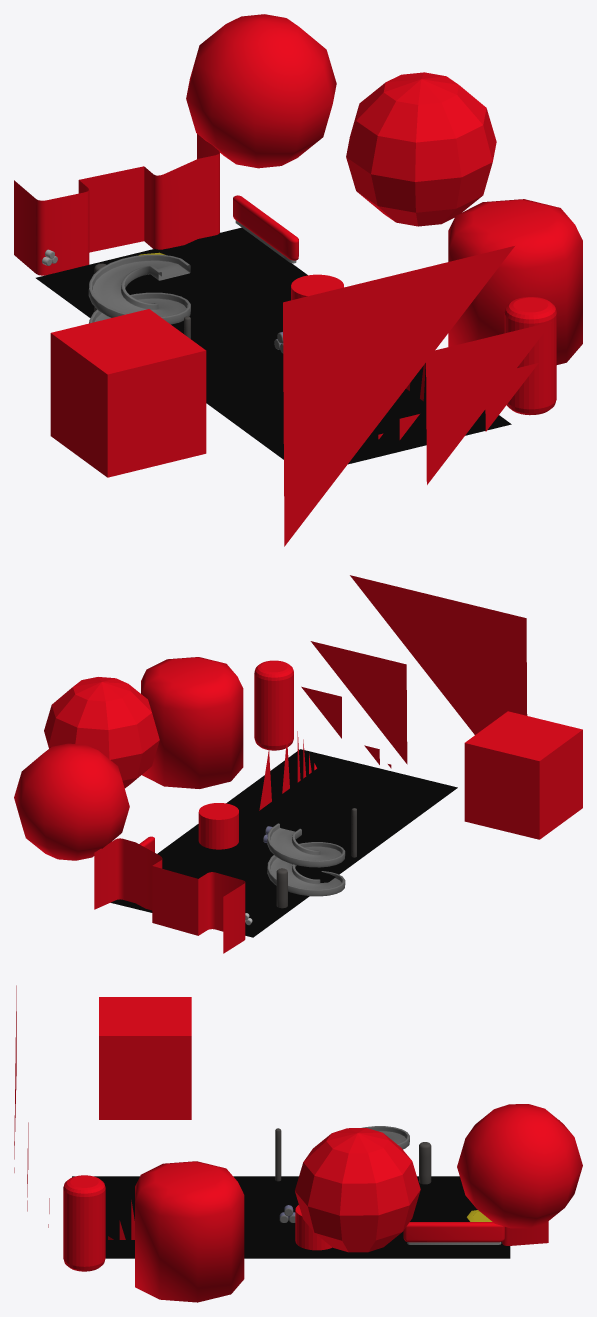
File: SimpleGeometry.glb
The picture shows the model from 3 angles, top to bottom: view 1: azimuth 30°, elevation 25°; view 2: azimuth 150°, elevation 25°; view 3: azimuth 270°, elevation 25°; orthographic projection. The views are drawn at different scales.
Parts seen in each view (by area): view 1: Plane.002, Plane, Cube, Sphere, Sphere.001, TeamFortress.001, Cylinder.001, Plane.001, Sprital ramp, Cylinder, Wall.018, Plane.003 (+1 smaller); view 2: Plane, Plane.002, Cube, Cylinder.001, Sphere.001, TeamFortress.001, Sphere, Plane.001, Sprital ramp, Cylinder, Cylinder.002, Plane.003; view 3: Cylinder.001, Sphere, Sphere.001, Plane, Cube, Cylinder, Wall.018, TeamFortress.001, Cylinder.002, cyl.002, Sprital ramp.
Boxes of the visible parts, x1,y1,x2,y2 form: Plane.002: (283, 246, 514, 546); Plane: (36, 227, 511, 464); Cube: (50, 309, 206, 477); Sphere: (346, 72, 496, 226); Sphere.001: (186, 14, 336, 168); TeamFortress.001: (14, 134, 219, 275); Cylinder.001: (448, 199, 582, 364); Plane.001: (426, 322, 551, 484); Sprital ramp: (88, 254, 190, 324); Cylinder: (504, 297, 556, 415); Wall.018: (233, 195, 298, 263); Plane.003: (485, 363, 538, 431); Plane: (110, 749, 457, 937); Plane.002: (350, 575, 527, 734); Cube: (464, 711, 582, 839); Cylinder.001: (141, 657, 243, 788); Sphere.001: (14, 743, 129, 860); TeamFortress.001: (94, 838, 245, 953); Sphere: (44, 677, 159, 788); Plane.001: (310, 641, 407, 764); Sprital ramp: (267, 823, 345, 896); Cylinder: (254, 660, 293, 750); Cylinder.002: (198, 803, 238, 849); Plane.003: (301, 686, 341, 738); Cylinder.001: (135, 1161, 244, 1302); Sphere: (295, 1128, 420, 1252); Sphere.001: (457, 1104, 582, 1228); Plane: (72, 1176, 510, 1258); Cube: (99, 997, 191, 1119); Cylinder: (63, 1175, 105, 1271); Wall.018: (403, 1222, 504, 1244); TeamFortress.001: (502, 1120, 559, 1245); Cylinder.002: (295, 1205, 331, 1250); cyl.002: (419, 1142, 431, 1184); Sprital ramp: (362, 1126, 409, 1149).
Size of the model in its own units: 60.41 by 26.15 by 68.1.
